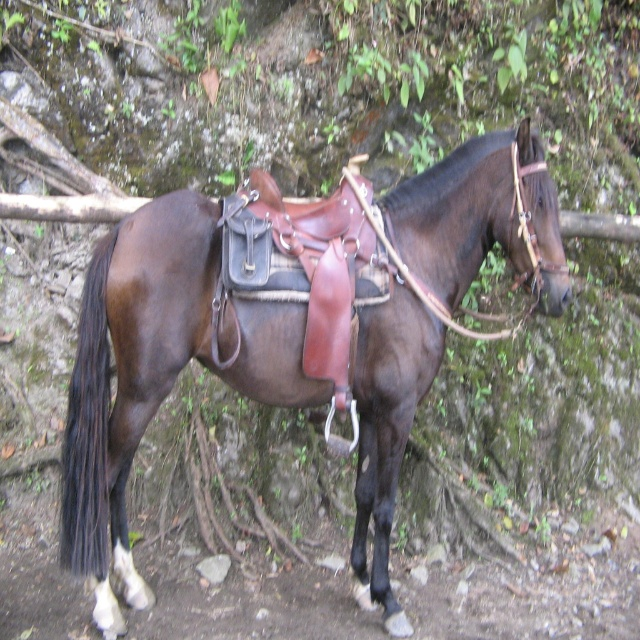Horse: (58, 117, 572, 638)
